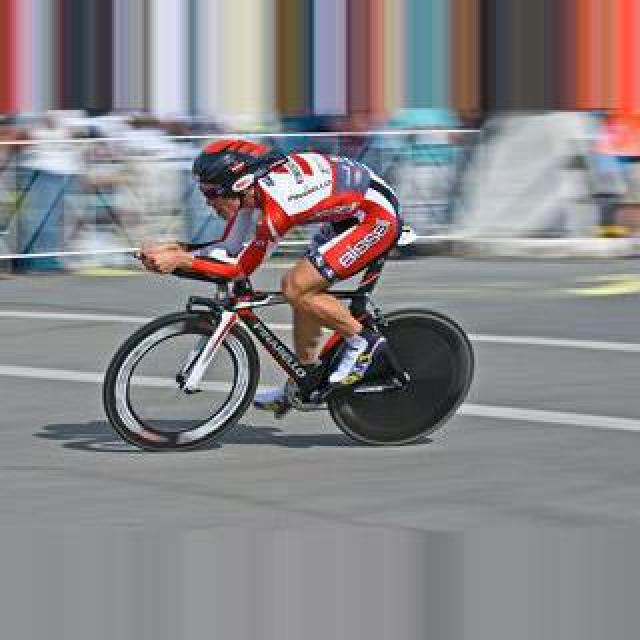MC-Bike: (140, 136, 414, 414)
Person: (110, 240, 476, 454)
